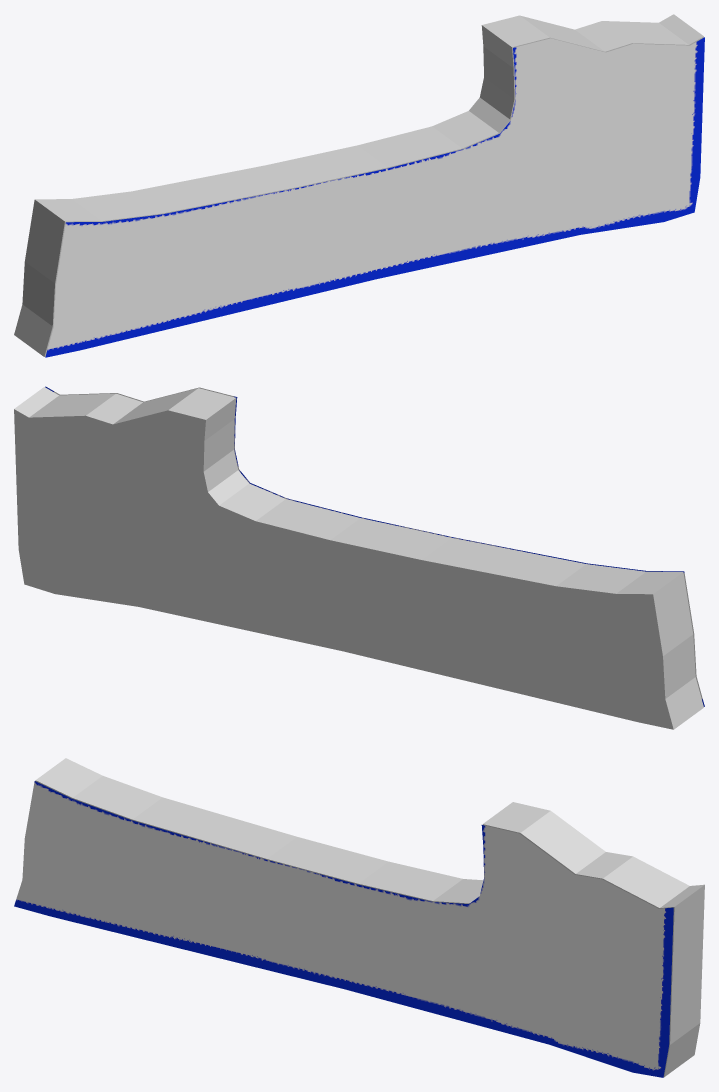
3 views of the same model, one above another, from view 1: azimuth 30°, elevation 25°; view 2: azimuth 150°, elevation 25°; view 3: azimuth 330°, elevation 25° (orthographic).
Visible parts, largest first — view 1: Out_2_1, Out_2_0; view 2: Out_2_0, Out_2_1; view 3: Out_2_1, Out_2_0.
Part boxes in pixels (box(x1,y1,x2,y2)): Out_2_1: box(45, 37, 704, 357); Out_2_0: box(14, 14, 703, 356); Out_2_0: box(14, 387, 703, 729); Out_2_1: box(45, 386, 704, 706); Out_2_1: box(14, 781, 673, 1077); Out_2_0: box(35, 758, 704, 1077).
Bounding box in the file's own units: 6.28 × 1.92 × 0.515.
2 materials, 1 textured.
